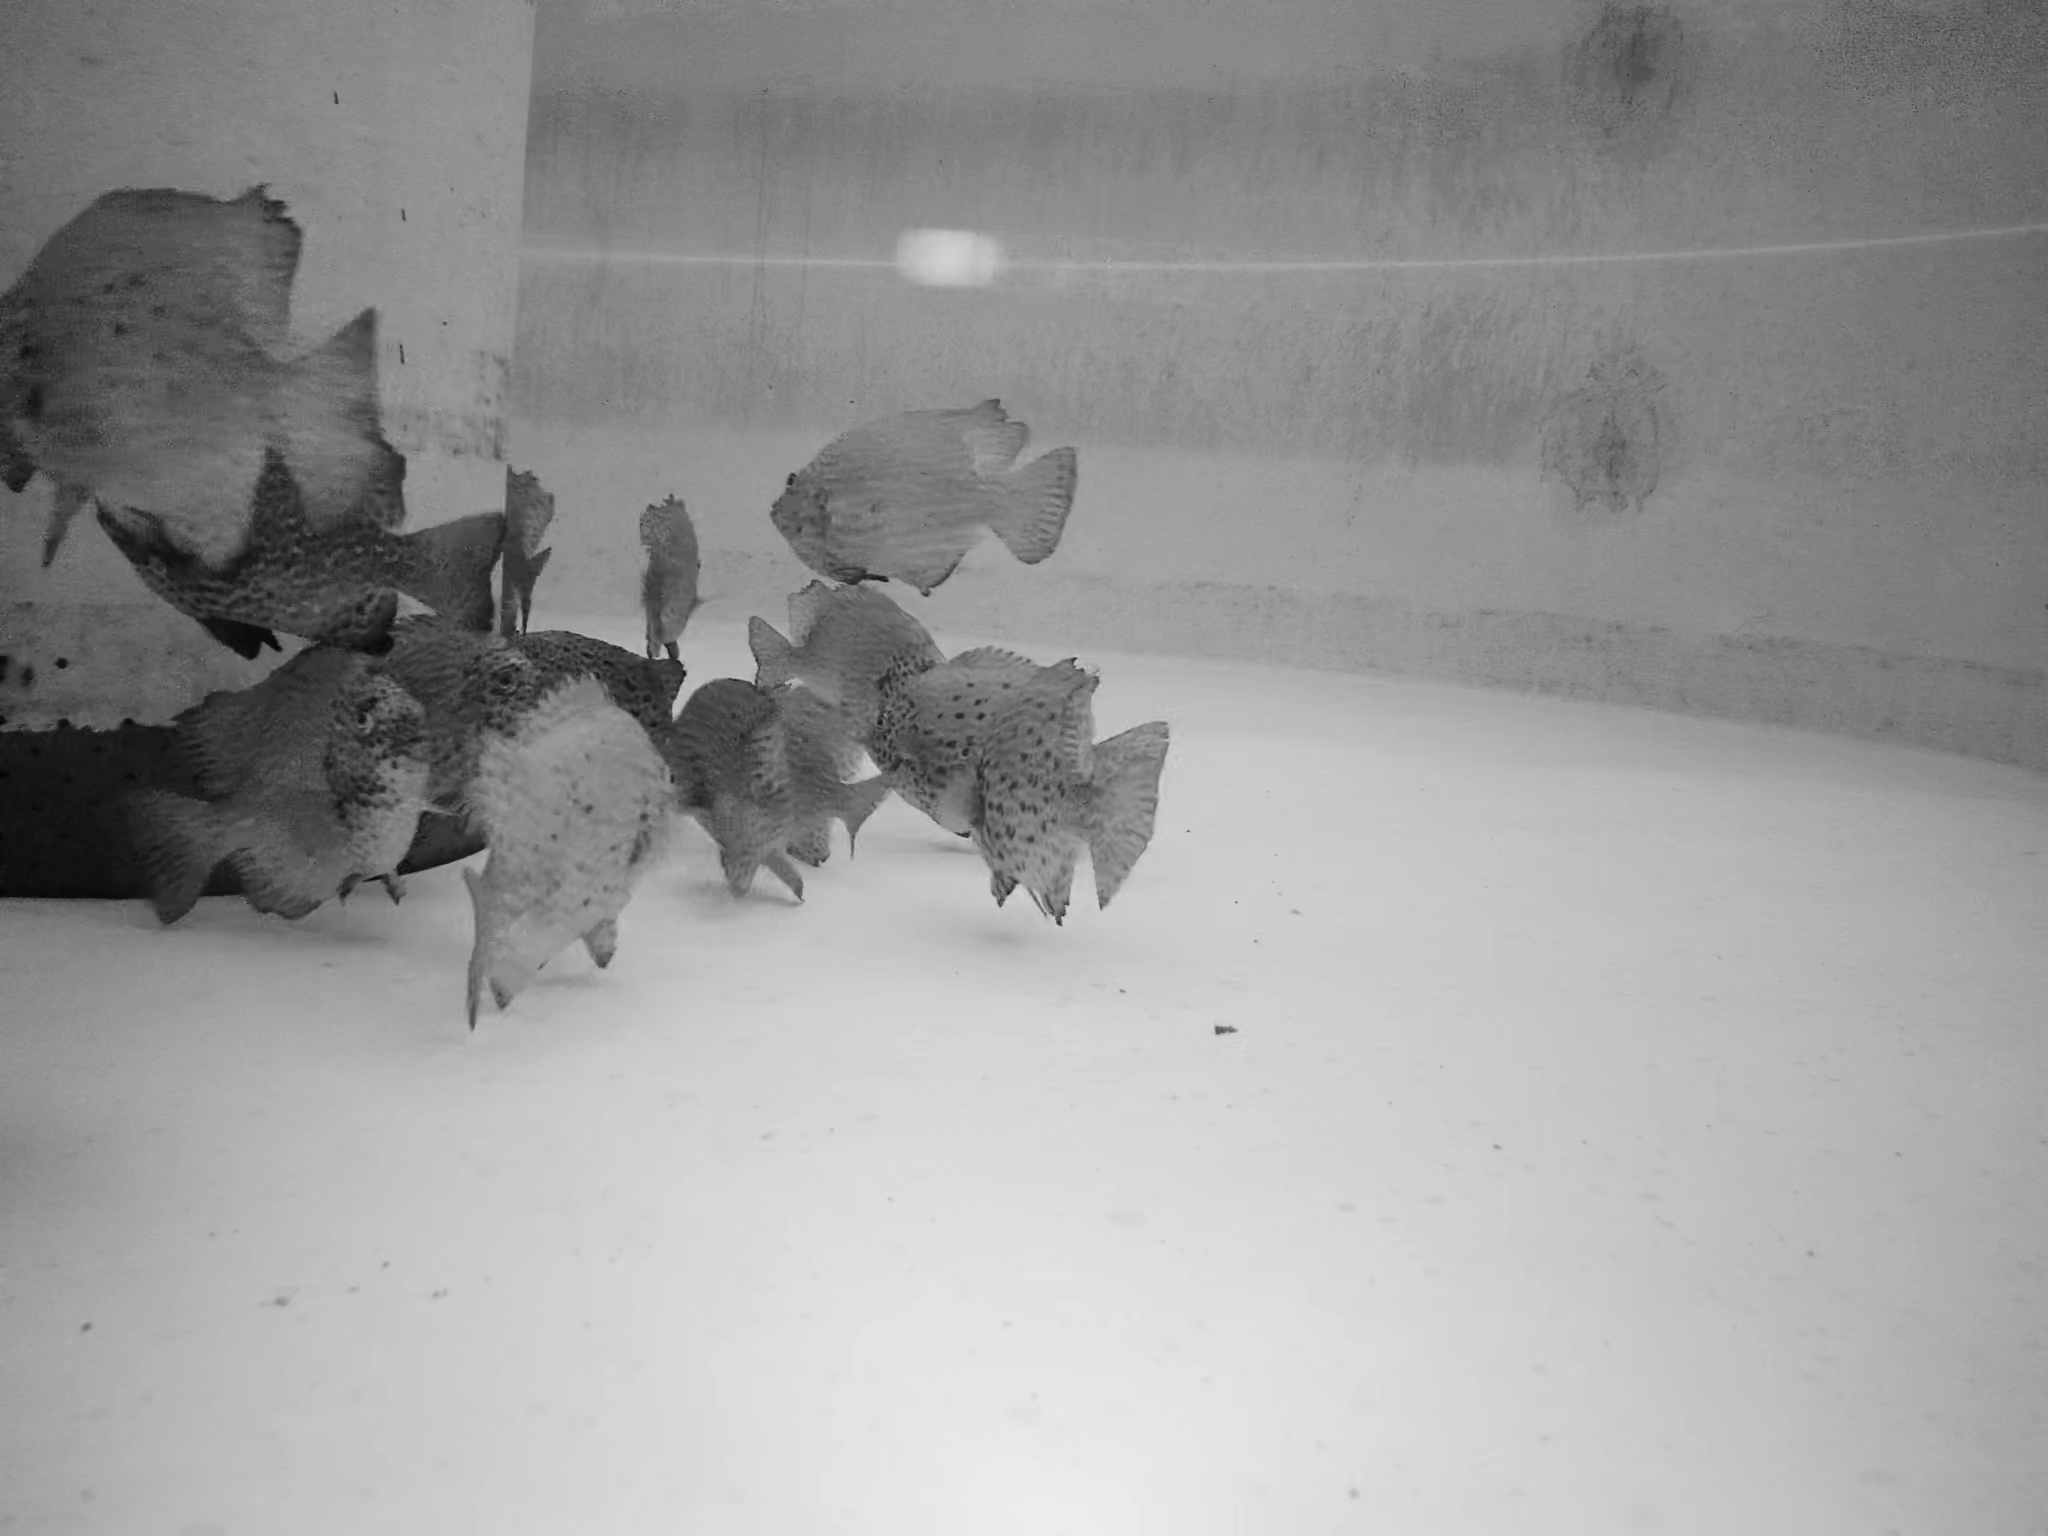fish: (10, 173, 376, 571), (106, 652, 439, 920), (885, 624, 1171, 929), (440, 663, 672, 1020), (98, 458, 505, 660), (776, 378, 1087, 602), (393, 621, 664, 833), (734, 571, 959, 787), (664, 674, 798, 892), (756, 702, 863, 881), (639, 482, 698, 649), (500, 471, 552, 616)
